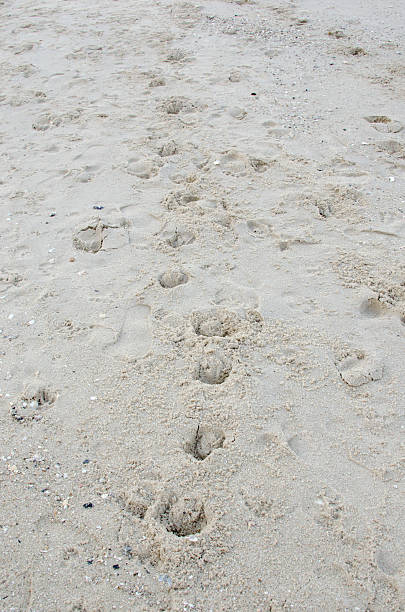animal_footprint: (105, 304, 151, 360), (155, 494, 206, 536), (73, 218, 128, 252), (335, 350, 383, 386), (10, 385, 56, 421), (184, 424, 224, 460), (190, 309, 238, 336), (119, 482, 154, 518), (195, 349, 231, 384), (73, 219, 104, 252), (162, 188, 199, 210), (236, 218, 272, 238), (161, 227, 194, 248), (364, 115, 402, 132), (160, 96, 195, 114), (126, 159, 157, 178), (158, 269, 188, 288), (360, 297, 386, 317), (32, 113, 61, 130), (375, 139, 403, 156), (166, 48, 190, 63), (158, 140, 178, 157), (249, 157, 268, 172), (229, 107, 246, 119), (149, 76, 165, 87)
